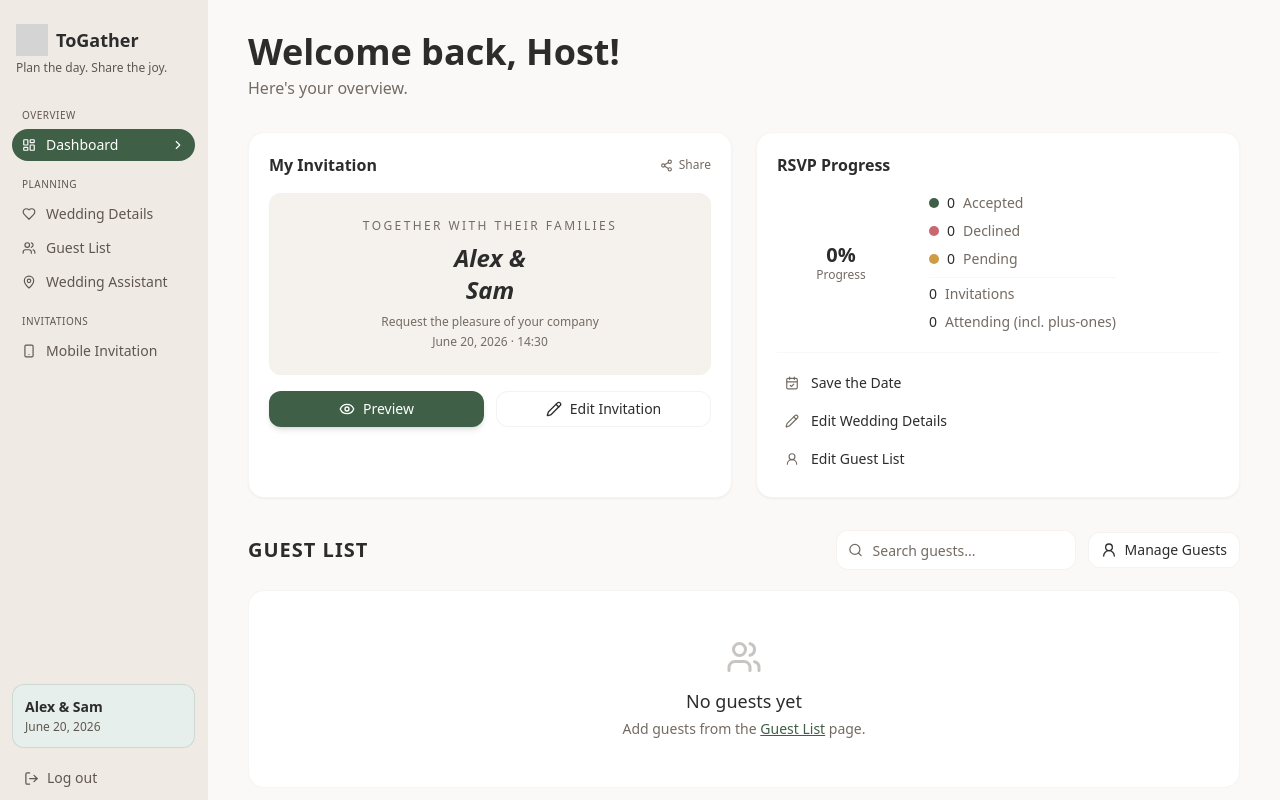
Dashboard integration › replaces 'Set Reminders' with a working 'Save the Date'
Click the button "Save the Date" at (856, 382), box [777,365,1219,401]
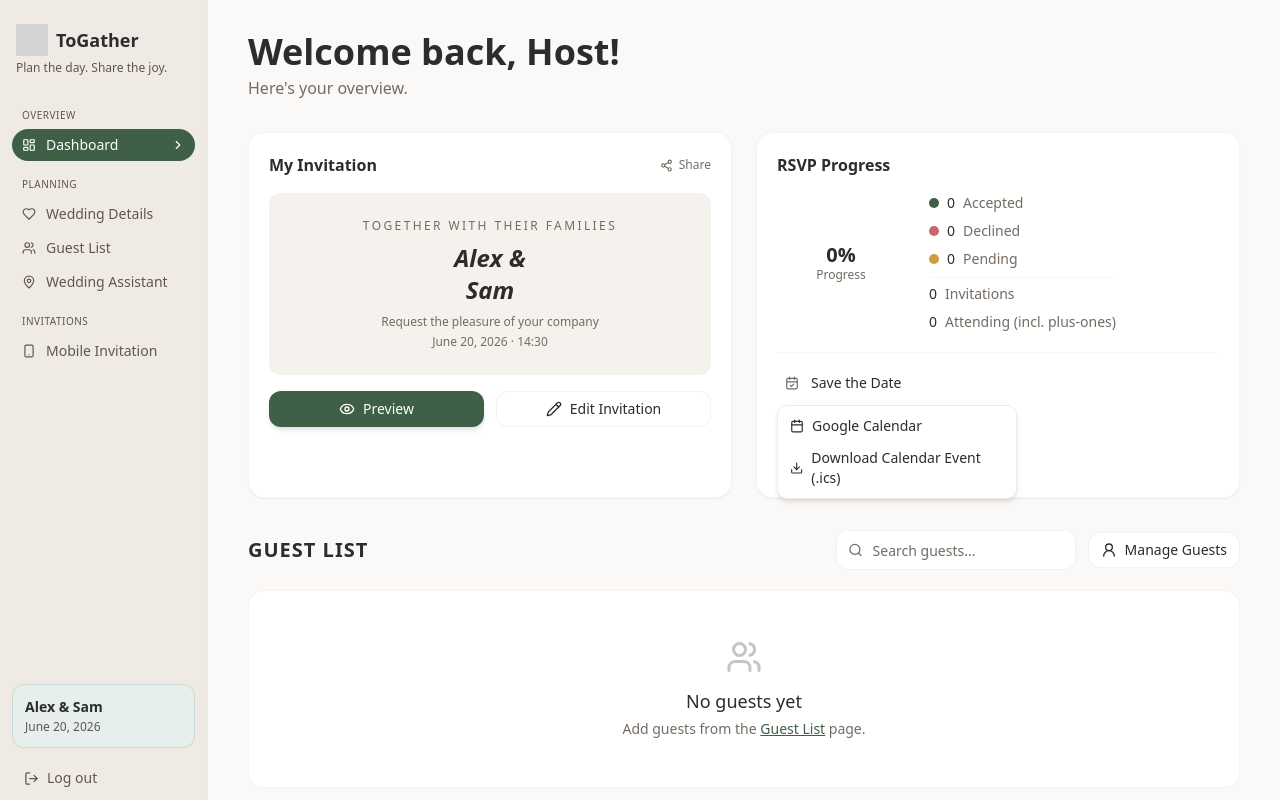
Check: the menu item "Google Calendar" is shown, box [790,416,922,435]
